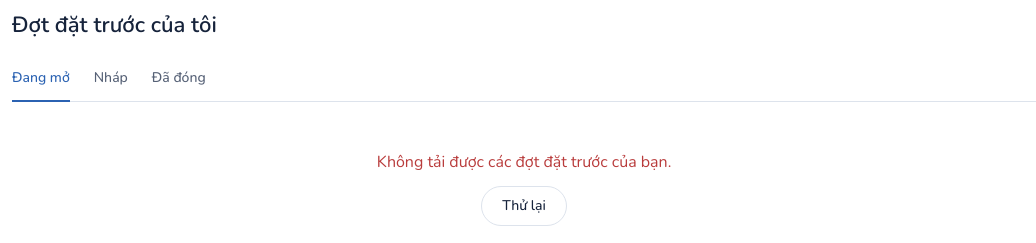
Test case: MyCampaigns › offers a retry when the rounds cannot be loaded
The width and height of the screenshot is (1036, 243).
Check: the text "Không tải được các đợt đặt trước của bạn." is shown, box [377, 150, 671, 174]
Click the button "Thử lại" at (524,206), box [481, 186, 567, 226]
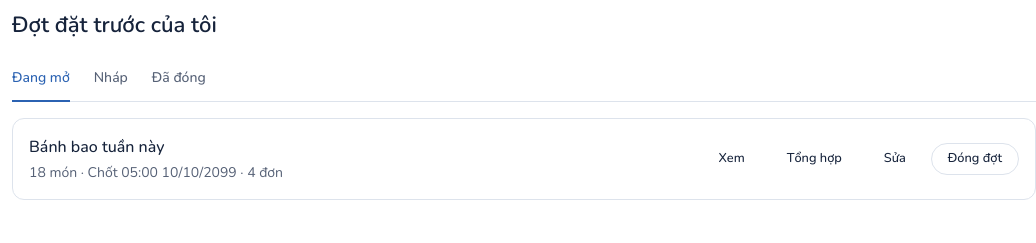
Check: the list item "Bánh bao tuần này" is shown, box [12, 118, 1035, 200]
